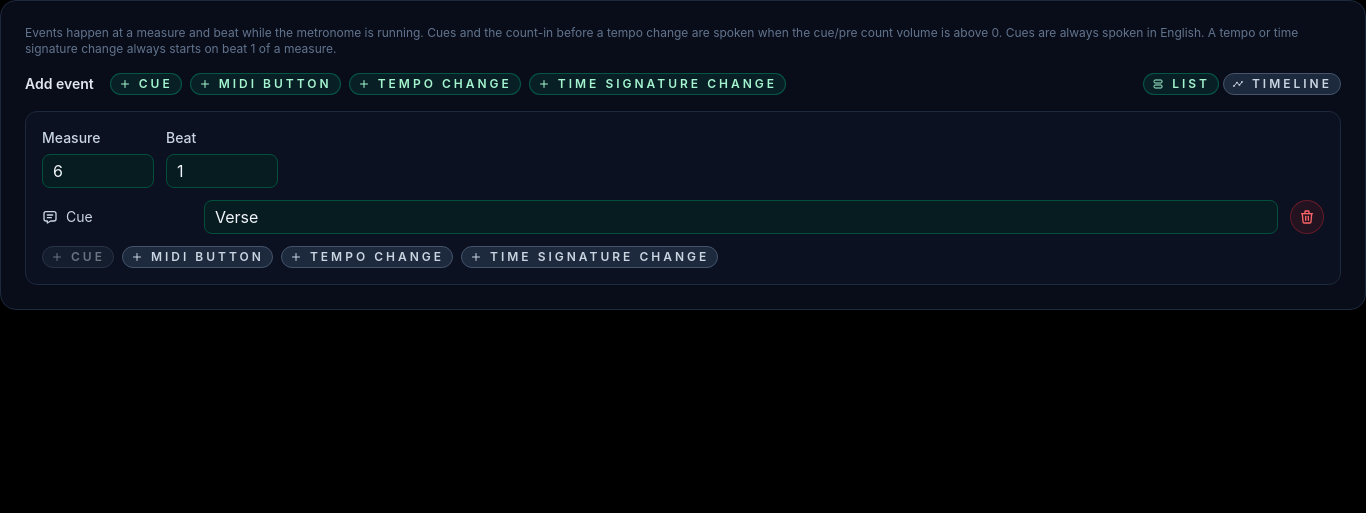
Test: EventsTab › adds a new position after the last event
Click the button with aria-label "Add MIDI button": coordinates (265, 84) [190,73,341,95]
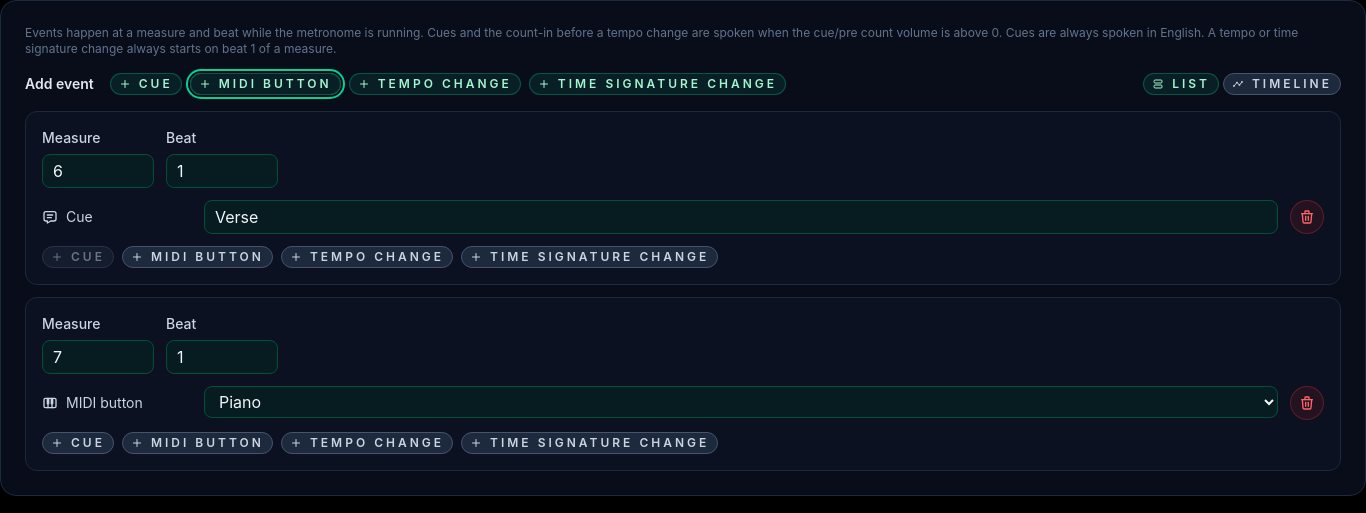
Result: the element named "Measure 7, beat 1" is shown at [25,297,1341,471]
